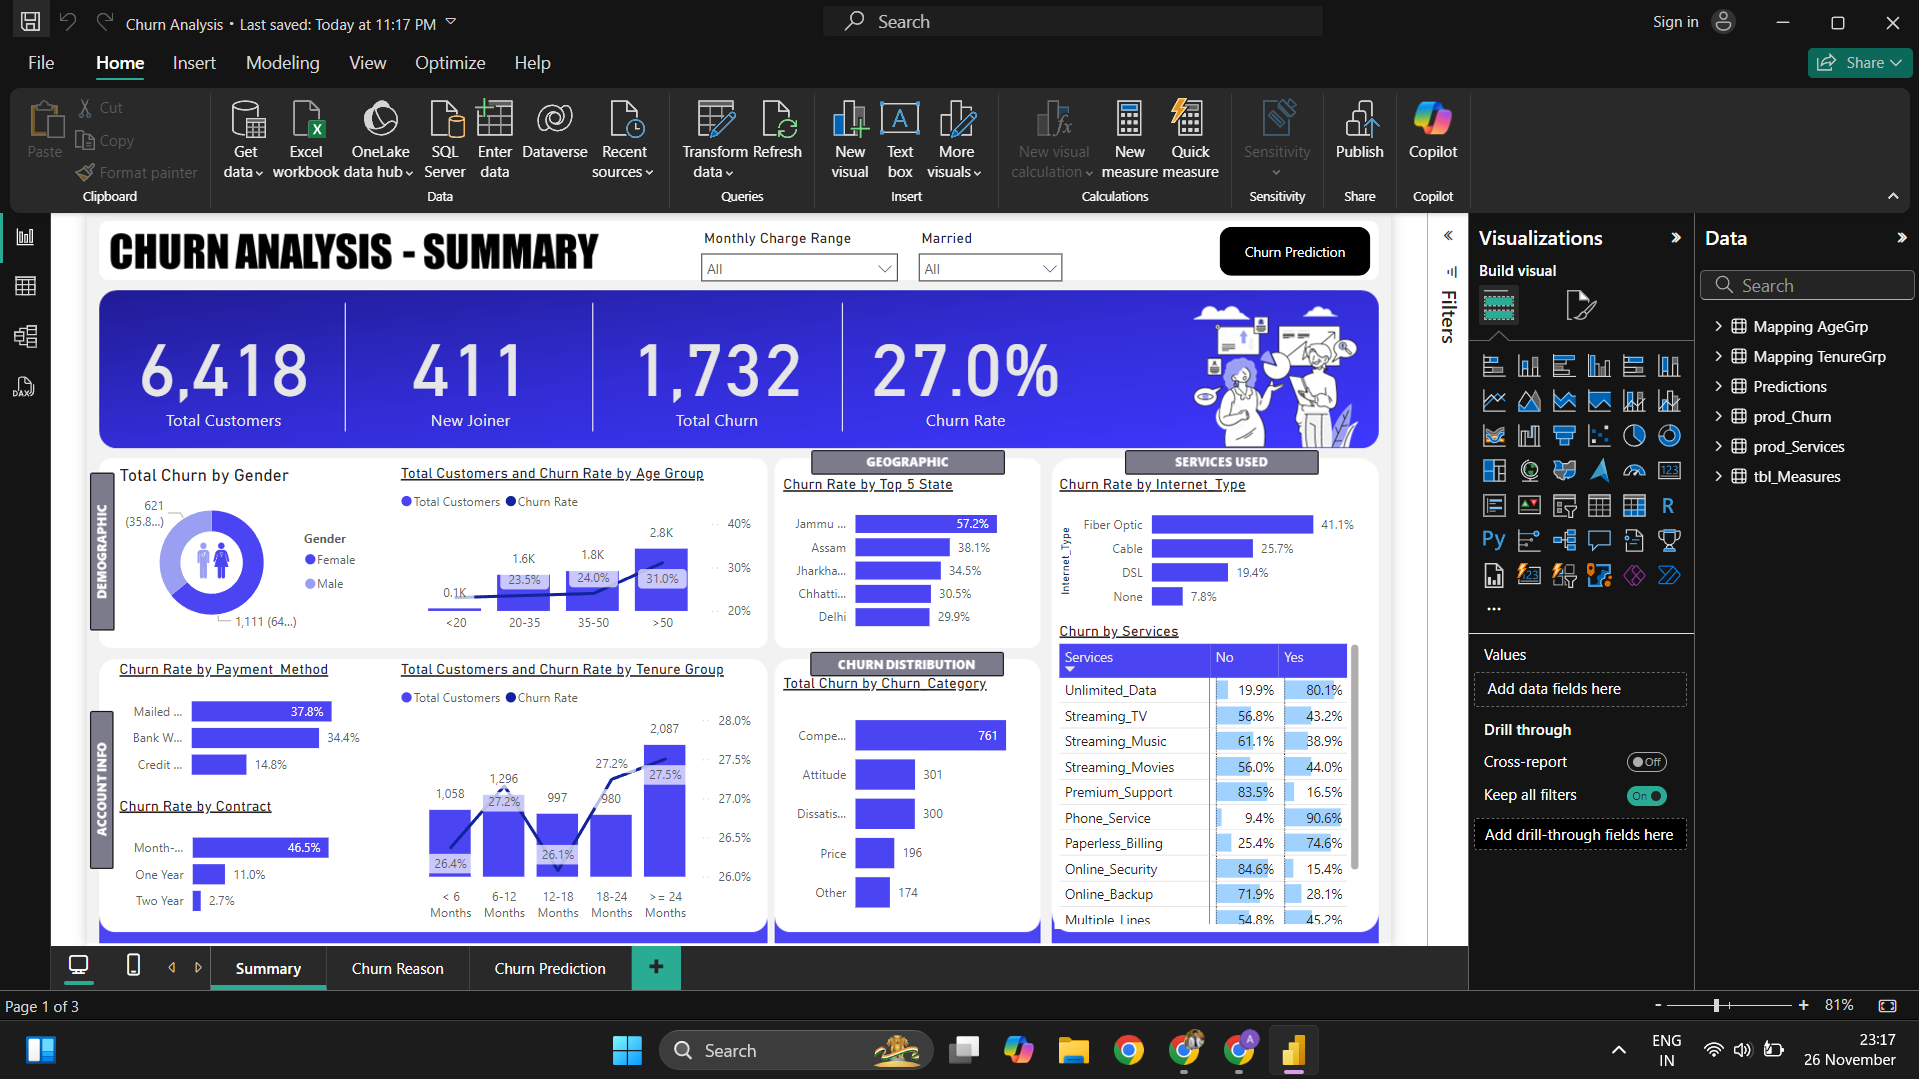

What the dashboard file says about the page in this screenshot:
{"tool":"powerbi","page":{"name":"Summary","canvas":[1280,720],"ordinal":0},"visuals":[{"type":"image","box":[96,312.3,56.8,55.4],"z":0},{"type":"card","fields":{"Values":["tbl_Measures.Total Customers"]},"box":[15.6,93.5,236.5,123.2],"z":1000},{"type":"card","fields":{"Values":["tbl_Measures.New Joiner"]},"box":[262,93.5,228,123.2],"z":2000},{"type":"card","fields":{"Values":["tbl_Measures.Total Churn"]},"box":[502.8,93.5,230.8,123.2],"z":3000},{"type":"card","fields":{"Values":["tbl_Measures.Churn Rate"]},"box":[747.8,93.5,230.8,123.2],"z":4000},{"type":"donutChart","fields":{"Category":["prod_Churn.Gender"],"Y":["tbl_Measures.Total Churn"]},"box":[26.9,246.4,252.1,174.2],"z":5000},{"type":"lineStackedColumnComboChart","fields":{"Category":["Mapping AgeGrp.Age Group"],"Y":["tbl_Measures.Total Customers"],"Y2":["tbl_Measures.Churn Rate"]},"box":[303.1,246.4,354.1,174.2],"z":6000},{"type":"barChart","fields":{"Category":["prod_Churn.Payment_Method"],"Y":["tbl_Measures.Churn Rate"]},"box":[26.9,439,252.1,128.9],"z":7000},{"type":"barChart","fields":{"Category":["prod_Churn.Contract"],"Y":["tbl_Measures.Churn Rate"]},"box":[26.9,573.6,254.9,128.9],"z":8000},{"type":"lineStackedColumnComboChart","fields":{"Category":["Mapping TenureGrp.Tenure Group"],"Y":["tbl_Measures.Total Customers"],"Y2":["tbl_Measures.Churn Rate"]},"box":[303.1,439,354.1,263.4],"z":9000},{"type":"clusteredBarChart","title":"Churn Rate by Top 5 State","fields":{"Category":["prod_Churn.State"],"Y":["tbl_Measures.Churn Rate"]},"box":[678.4,257.8,253.5,162.9],"z":10000},{"type":"clusteredBarChart","fields":{"Category":["prod_Churn.Churn_Category"],"Y":["tbl_Measures.Total Churn"]},"box":[678.4,453.2,253.5,250.7],"z":11000},{"type":"clusteredBarChart","fields":{"Category":["prod_Churn.Internet_Type"],"Y":["tbl_Measures.Churn Rate"]},"box":[950.3,257.8,304.5,143],"z":12000},{"type":"pivotTable","title":"Churn by Services","fields":{"Rows":["prod_Services.Services"],"Columns":["prod_Services.Status"],"Values":["Sum(prod_Services.Churn Status)"]},"box":[950.3,400.8,304.5,301.7],"z":13000},{"type":"slicer","fields":{"Values":["prod_Services.Monthly Charge Status"]},"box":[592.9,11.4,212.9,62.9],"z":14000},{"type":"slicer","fields":{"Values":["prod_Services.Married"]},"box":[805.7,11.4,161.4,62.9],"z":15000},{"type":"shape","box":[1111.7,13.3,148.3,48.3],"z":16000}]}

Visuals, with their boxes on the page's 1280x720 design canvas (x1, y1, x2, y2). These are canvas units, not pixel positions in the 1919x1079 screenshot, which may show the page scaled, cropped or inside an application window:
image: <region>96, 312, 153, 368</region>
card - tbl_Measures.Total Customers: <region>16, 94, 252, 217</region>
card - tbl_Measures.New Joiner: <region>262, 94, 490, 217</region>
card - tbl_Measures.Total Churn: <region>503, 94, 734, 217</region>
card - tbl_Measures.Churn Rate: <region>748, 94, 979, 217</region>
donutChart - prod_Churn.Gender x tbl_Measures.Total Churn: <region>27, 246, 279, 421</region>
lineStackedColumnComboChart - Mapping AgeGrp.Age Group x tbl_Measures.Total Customers: <region>303, 246, 657, 421</region>
barChart - prod_Churn.Payment_Method x tbl_Measures.Churn Rate: <region>27, 439, 279, 568</region>
barChart - prod_Churn.Contract x tbl_Measures.Churn Rate: <region>27, 574, 282, 702</region>
lineStackedColumnComboChart - Mapping TenureGrp.Tenure Group x tbl_Measures.Total Customers: <region>303, 439, 657, 702</region>
"Churn Rate by Top 5 State" clusteredBarChart: <region>678, 258, 932, 421</region>
clusteredBarChart - prod_Churn.Churn_Category x tbl_Measures.Total Churn: <region>678, 453, 932, 704</region>
clusteredBarChart - prod_Churn.Internet_Type x tbl_Measures.Churn Rate: <region>950, 258, 1255, 401</region>
"Churn by Services" pivotTable: <region>950, 401, 1255, 702</region>
slicer - prod_Services.Monthly Charge Status: <region>593, 11, 806, 74</region>
slicer - prod_Services.Married: <region>806, 11, 967, 74</region>
shape: <region>1112, 13, 1260, 62</region>
